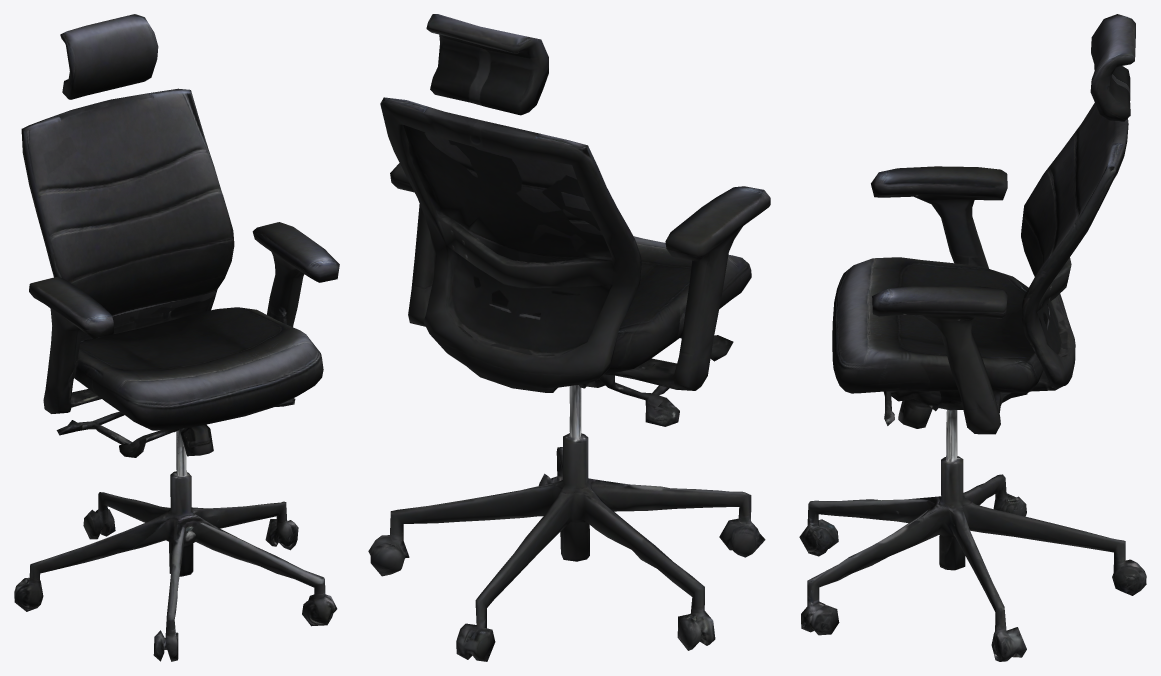
File: chair_0406074250_texture.fbx
3 renders of one model, left to right at view 1: azimuth 30°, elevation 25°; view 2: azimuth 150°, elevation 25°; view 3: azimuth 270°, elevation 25°, orthographic. The views are drawn at different scales.
Parts seen in each view (by area): view 1: Mesh_0; view 2: Mesh_0; view 3: Mesh_0.
Part boxes in pixels (x1,y1,x2,y2): Mesh_0: (14,14,339,661); Mesh_0: (368,14,770,661); Mesh_0: (799,14,1146,661).
Size of the model in its own units: 115 by 200 by 113.
Materials: 1 (1 with a texture image).
